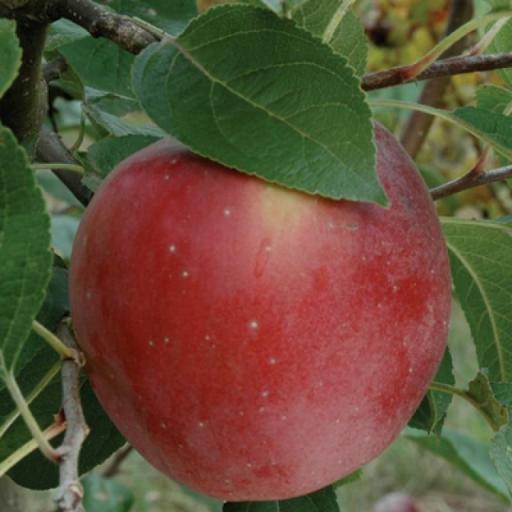fruit: (71, 125, 450, 500)
